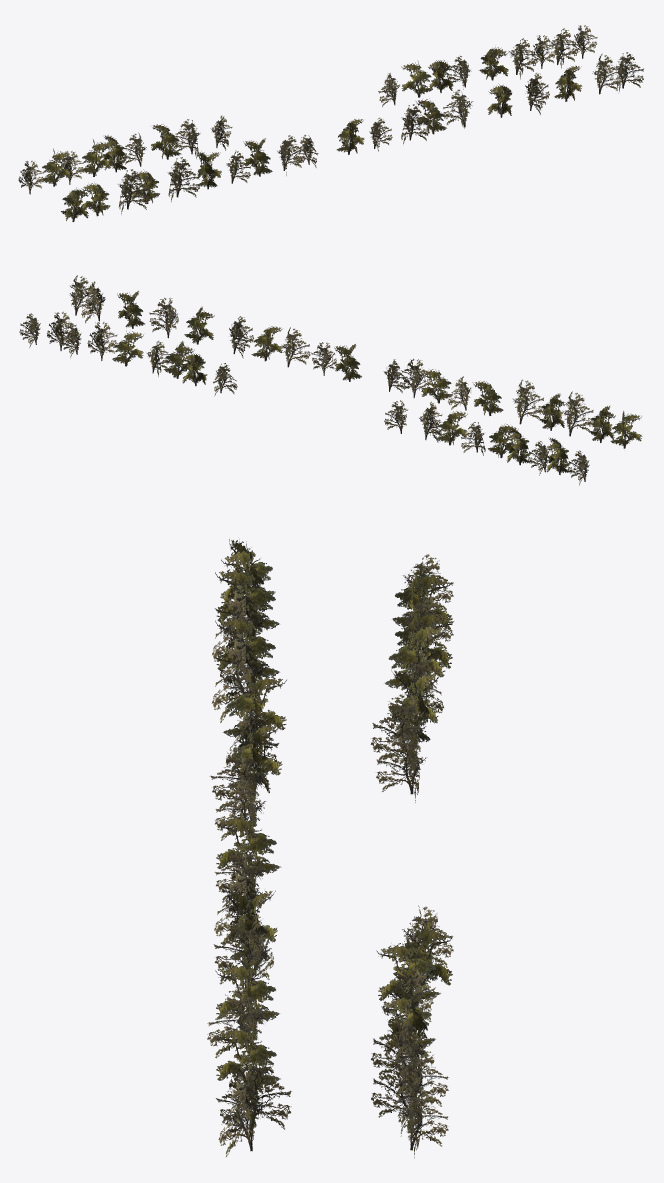
Rendered from bushes2.glb.
The picture shows the model from 3 angles, top to bottom: view 1: azimuth 30°, elevation 25°; view 2: azimuth 150°, elevation 25°; view 3: azimuth 270°, elevation 25°; orthographic projection. The views are drawn at different scales.
Parts seen in each view (by area): view 1: Trees_001_Tree_01_0, Trees_001_Tree_0, Trees_003_Tree_01_0, Trees_005_Tree_0, Trees_005_Tree_01_0, Trees_003_Tree_0; view 2: Trees_001_Tree_01_0, Trees_001_Tree_0, Trees_003_Tree_01_0, Trees_005_Tree_0, Trees_005_Tree_01_0, Trees_003_Tree_0; view 3: Trees_001_Tree_01_0, Trees_001_Tree_0, Trees_003_Tree_01_0, Trees_005_Tree_0, Trees_005_Tree_01_0, Trees_003_Tree_0.
Part boxes in pixels (x1,y1,x2,y2): Trees_001_Tree_01_0: (118,52,643,214); Trees_001_Tree_0: (61,65,582,221); Trees_003_Tree_01_0: (378,25,597,106); Trees_005_Tree_0: (41,124,181,186); Trees_005_Tree_01_0: (18,115,232,194); Trees_003_Tree_0: (401,47,508,97); Trees_001_Tree_01_0: (69,275,594,436); Trees_001_Tree_0: (117,290,642,448); Trees_003_Tree_01_0: (19,311,237,396); Trees_005_Tree_0: (436,411,570,474); Trees_005_Tree_01_0: (384,400,589,485); Trees_003_Tree_0: (112,330,207,386); Trees_001_Tree_01_0: (207,580,291,1156); Trees_001_Tree_0: (215,539,286,1087); Trees_003_Tree_01_0: (371,905,453,1158); Trees_005_Tree_0: (385,572,452,742); Trees_005_Tree_01_0: (370,554,454,802); Trees_003_Tree_0: (376,917,452,1061).
Size of the model in its own units: 189 by 15.7 by 37.84.
Materials: 2 (2 with a texture image).
